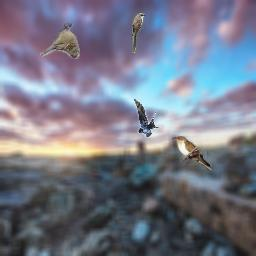Cuckoo: (172, 136, 212, 170), (132, 13, 145, 53)
Sparrow: (40, 23, 80, 59)
Swallow: (133, 98, 161, 138)
